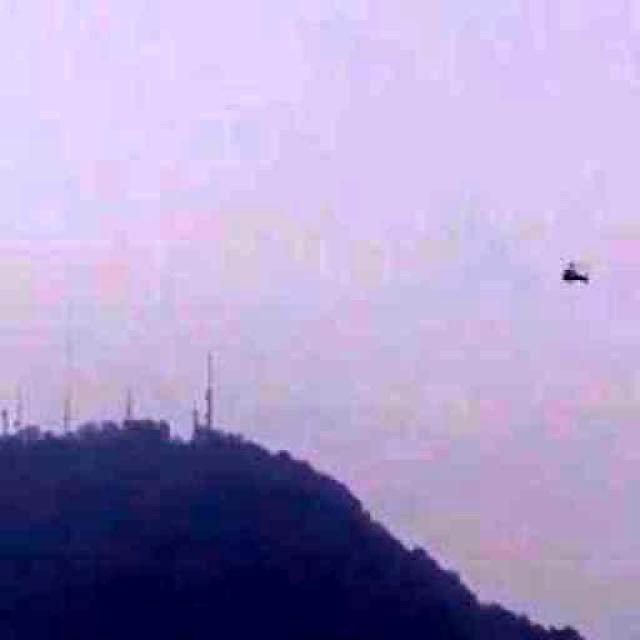drone: (528, 230, 614, 308)
